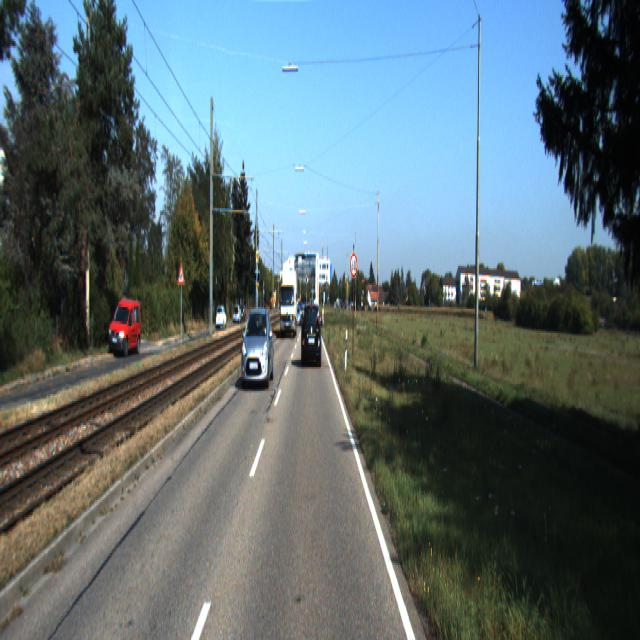Car: (242, 306, 275, 392), (108, 297, 142, 358), (302, 303, 322, 369), (280, 269, 298, 342)
